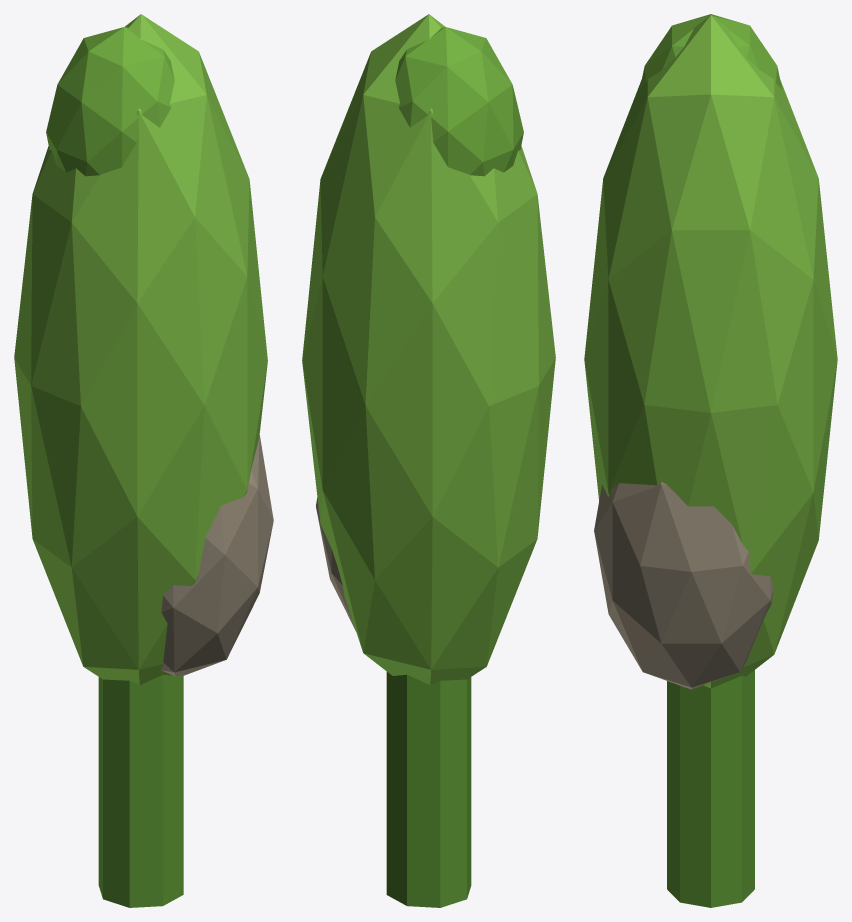
File: M04_Poplar.fbx
3 views of the same model, side by side, from view 1: azimuth 30°, elevation 25°; view 2: azimuth 150°, elevation 25°; view 3: azimuth 270°, elevation 25° (orthographic).
Visible parts, largest first — view 1: M04_Poplar; view 2: M04_Poplar; view 3: M04_Poplar.
Part boxes in pixels (box(x1,y1,x2,y2)): M04_Poplar: box(14, 14, 273, 907); M04_Poplar: box(302, 14, 555, 907); M04_Poplar: box(584, 14, 837, 907).
Size of the model in its own units: 2.6 by 9.9 by 2.6.
1 material, 1 textured.
